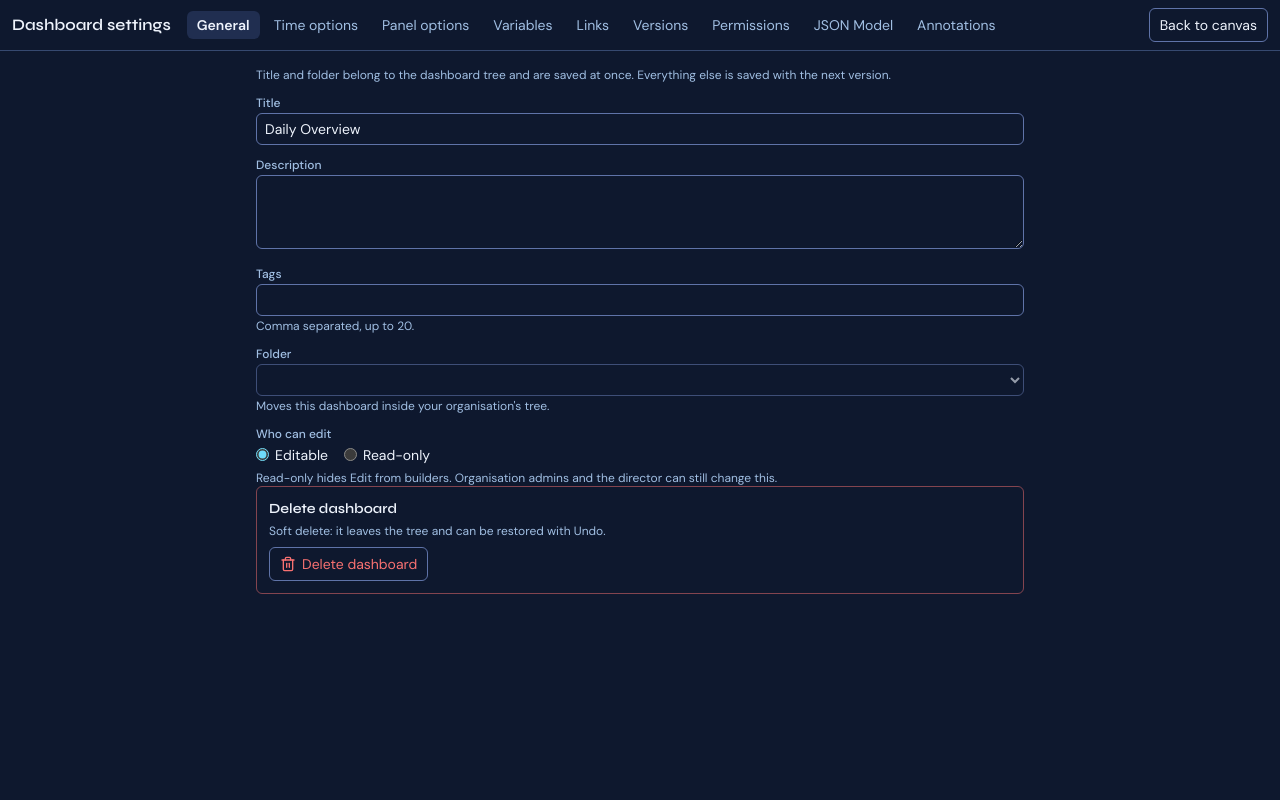
Test: settings view (UI) › Links: refuses an unsafe address
This screenshot has width=1280, height=800.
Click the tab "Links" at (593, 25), box [566,11,619,39]
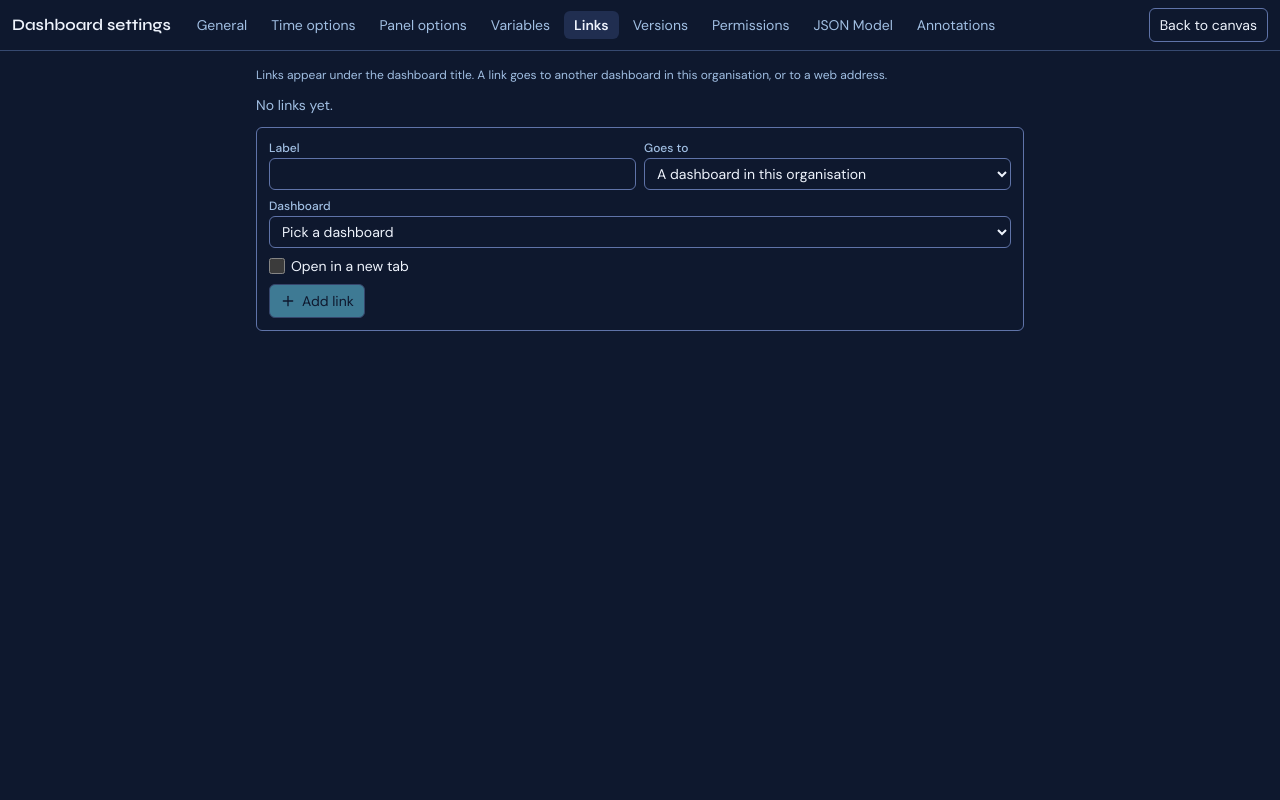
Select "A web address" in the dropdown named "Link type" at (828, 174), box [644,158,1011,190]
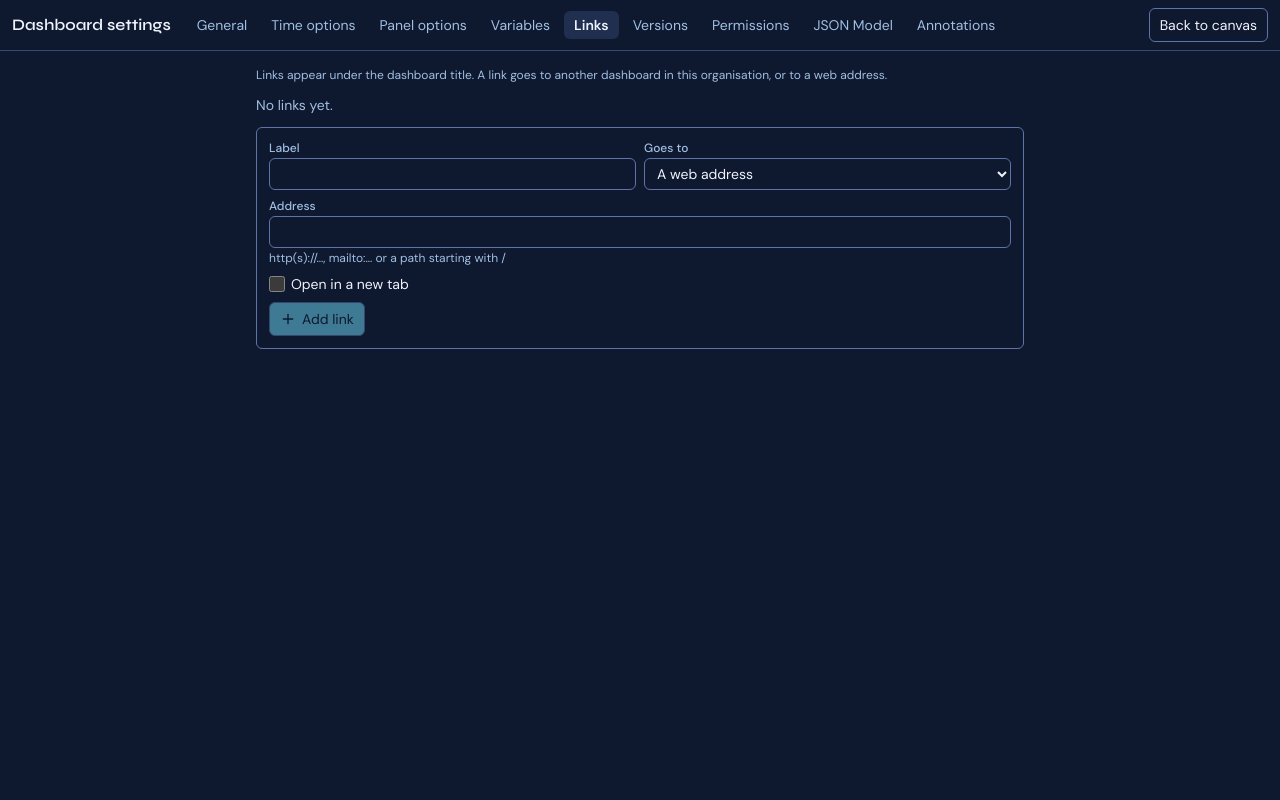
Type "Bad" into the field named "Link label" at (452, 174), box [269,158,636,190]
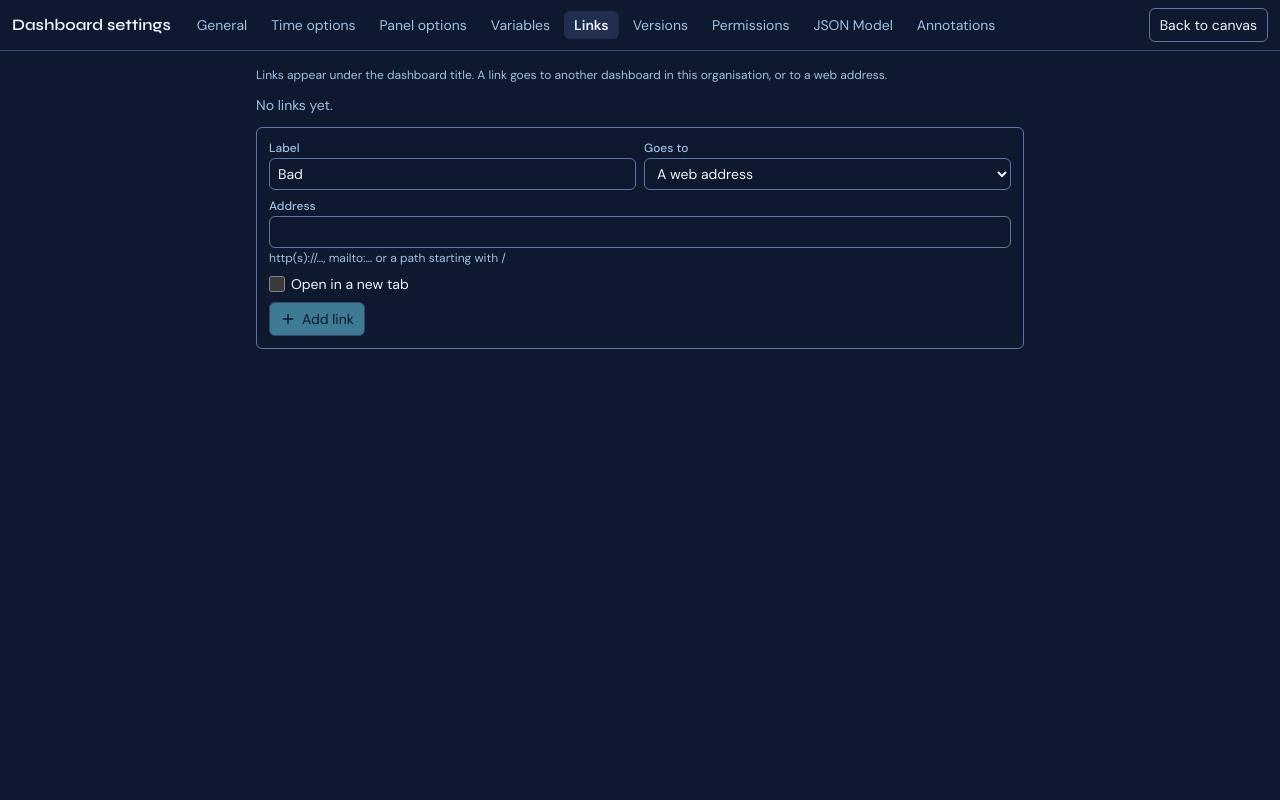
Type "javascript:alert(1)" into the field named "Link address" at (640, 232), box [269,216,1011,248]
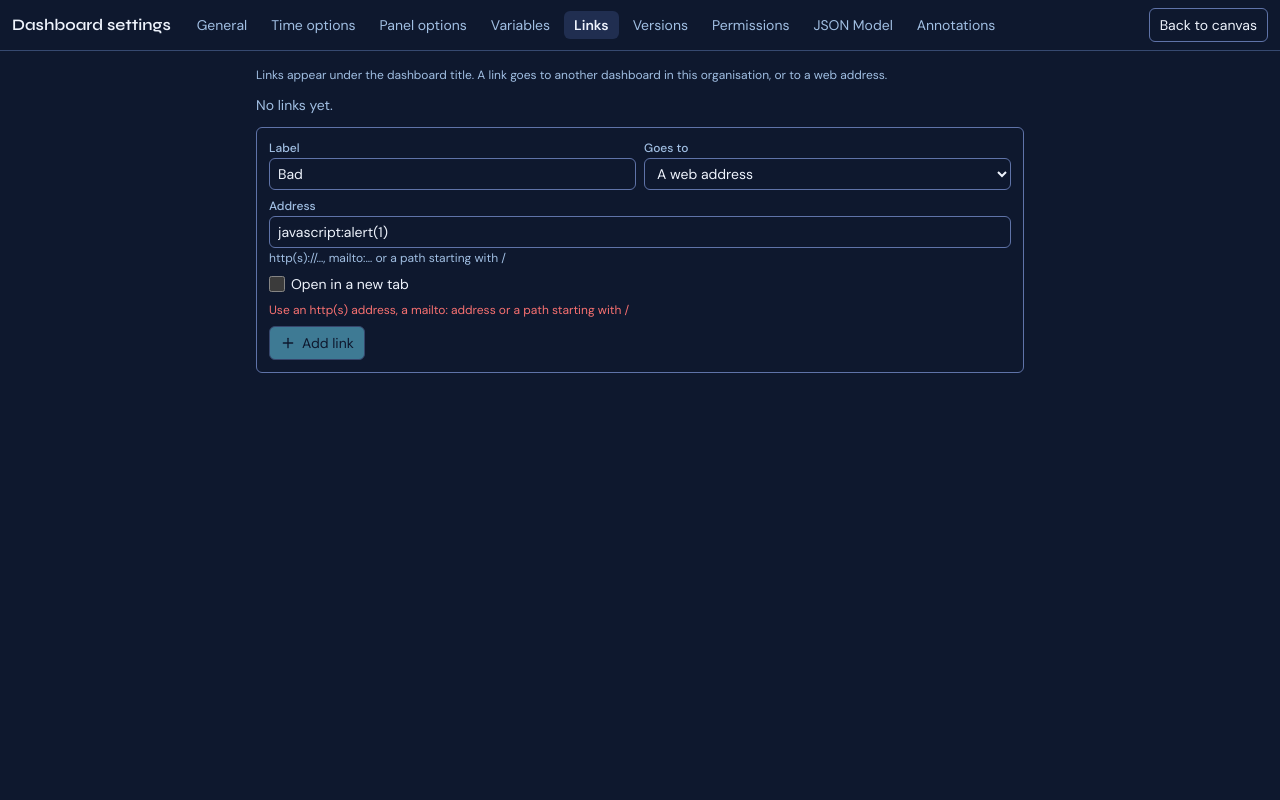
Expected: the button "Add link" is disabled, [269,326,365,360]
Expected: the message shows "http", [269,302,629,318]
